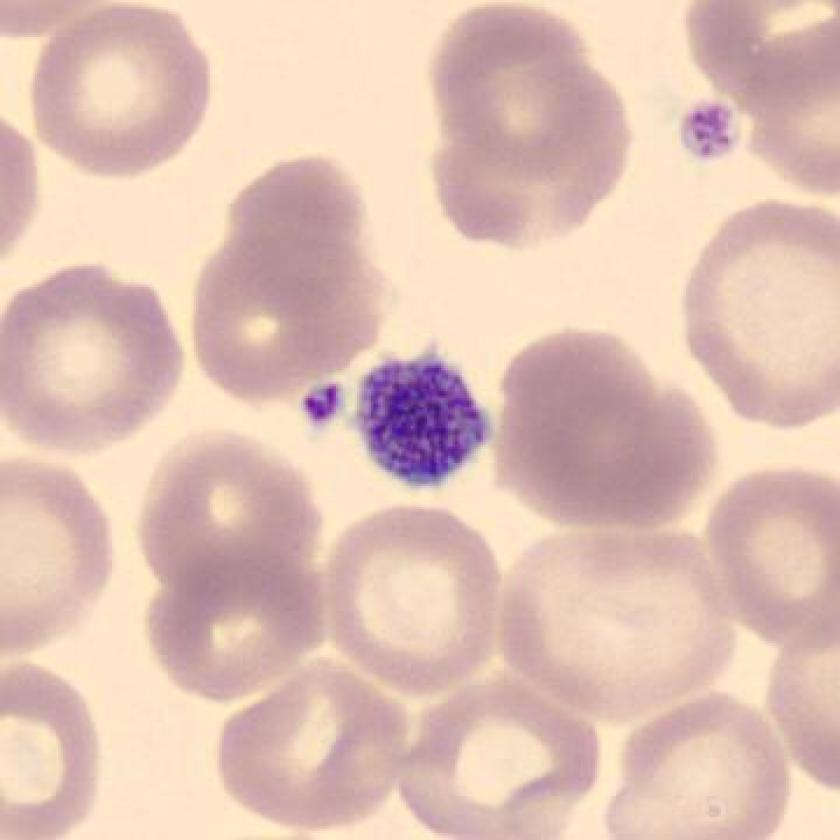platelets: (342, 332, 505, 503), (666, 91, 755, 177)
